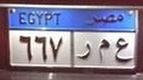6: (35, 35, 47, 62), (19, 35, 31, 60)
7: (47, 36, 66, 63)
ain: (115, 37, 131, 64)
meem: (97, 37, 111, 63)
raa: (77, 40, 92, 60)
